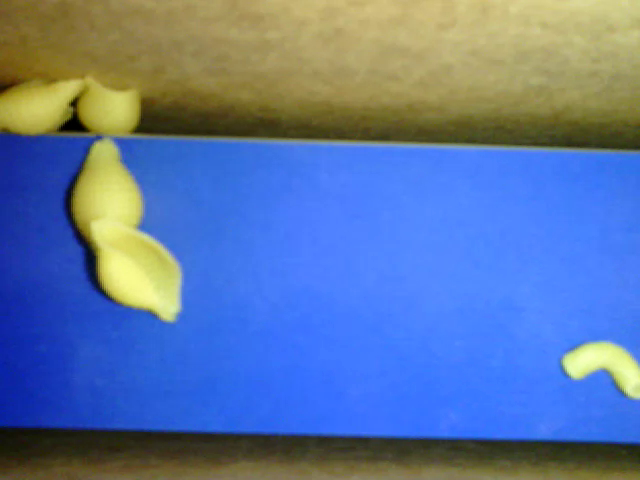elbow: (559, 339, 639, 396)
shell: (88, 215, 185, 321), (65, 138, 144, 250), (2, 71, 91, 137), (75, 74, 145, 134)
